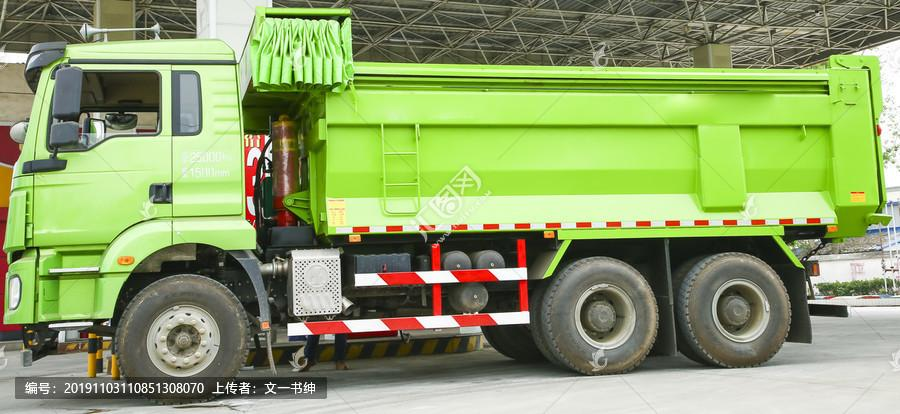truck: (1, 4, 889, 397)
